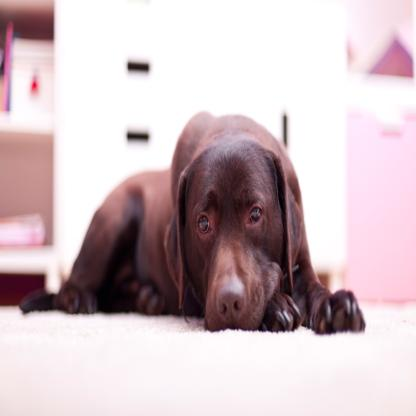dog: (34, 105, 376, 336)
